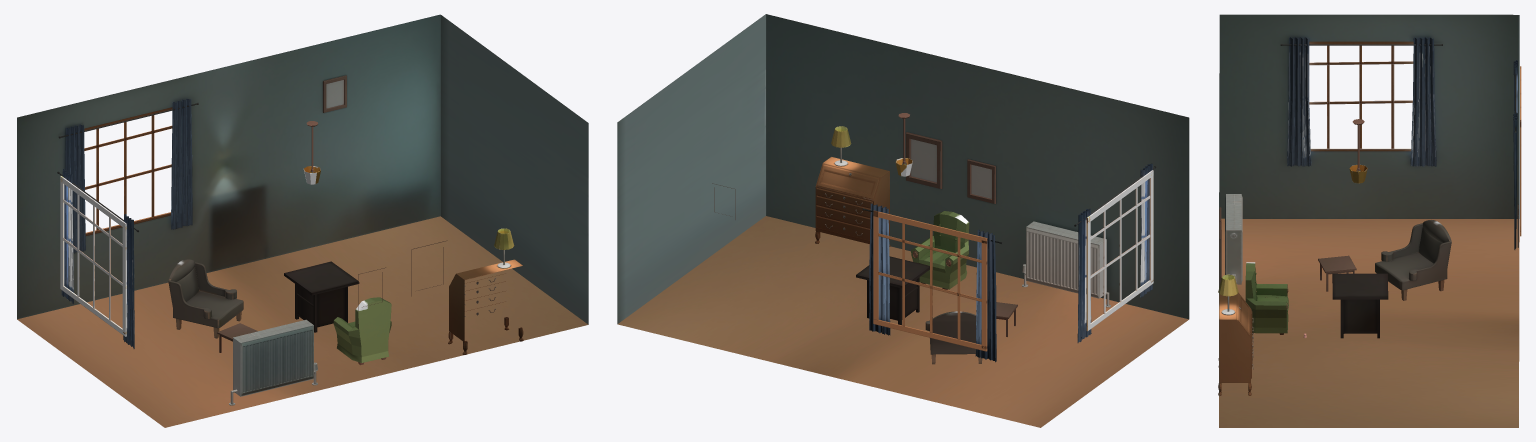
File: no-user-Compressed.glb
3 renders of one model, left to right at view 1: azimuth 30°, elevation 25°; view 2: azimuth 150°, elevation 25°; view 3: azimuth 270°, elevation 25°, orthographic.
Parts seen in each view (by area): view 1: murs, sol, Radiator, petit fauteuil bas, Table haute, window1, fauteuil vert.001, rideaux_d.001, window2, commode, rideaux_g.001, rideaux_g (+2 smaller); view 2: murs, sol, commode, window2, Radiator, window1, fauteuil vert.001, rideaux_d.001, rideaux_g.001, Table haute, tableau 2/2, petit fauteuil bas (+3 smaller); view 3: sol, murs, petit fauteuil bas, rideaux_d, commode, Table haute, rideaux_g, window1, fauteuil vert.001, Radiator, Table, rideaux_d.001 (+3 smaller).
Part boxes in pixels (bbox=[...]): murs: bbox=[17, 14, 588, 324]; sol: bbox=[17, 216, 588, 427]; Radiator: bbox=[229, 319, 317, 405]; petit fauteuil bas: bbox=[168, 259, 243, 338]; Table haute: bbox=[284, 261, 359, 332]; window1: bbox=[60, 176, 126, 336]; fauteuil vert.001: bbox=[333, 297, 391, 365]; rideaux_d.001: bbox=[171, 98, 192, 229]; window2: bbox=[84, 107, 172, 235]; commode: bbox=[448, 259, 523, 354]; rideaux_g.001: bbox=[65, 124, 85, 253]; rideaux_g: bbox=[123, 214, 134, 348]; murs: bbox=[617, 14, 1189, 323]; sol: bbox=[617, 216, 1188, 427]; commode: bbox=[815, 157, 890, 246]; window2: bbox=[873, 210, 987, 351]; Radiator: bbox=[1022, 221, 1110, 307]; window1: bbox=[1086, 170, 1153, 331]; fauteuil vert.001: bbox=[911, 211, 969, 289]; rideaux_d.001: bbox=[869, 203, 890, 335]; rideaux_g.001: bbox=[975, 229, 996, 362]; Table haute: bbox=[856, 256, 929, 325]; tableau 2/2: bbox=[906, 132, 942, 188]; petit fauteuil bas: bbox=[925, 311, 982, 364]; sol: bbox=[1219, 218, 1519, 427]; murs: bbox=[1219, 14, 1519, 396]; petit fauteuil bas: bbox=[1375, 220, 1451, 300]; rideaux_d: bbox=[1410, 37, 1436, 166]; commode: bbox=[1218, 292, 1253, 395]; Table haute: bbox=[1332, 273, 1388, 338]; rideaux_g: bbox=[1287, 37, 1311, 166]; window1: bbox=[1309, 41, 1413, 151]; fauteuil vert.001: bbox=[1245, 262, 1288, 334]; Radiator: bbox=[1225, 194, 1242, 284]; Table: bbox=[1318, 255, 1356, 291]; rideaux_d.001: bbox=[1513, 112, 1517, 249].
Size of the model in its own units: 7.18 by 3.27 by 4.39.
Materials: 27 (21 with a texture image).
